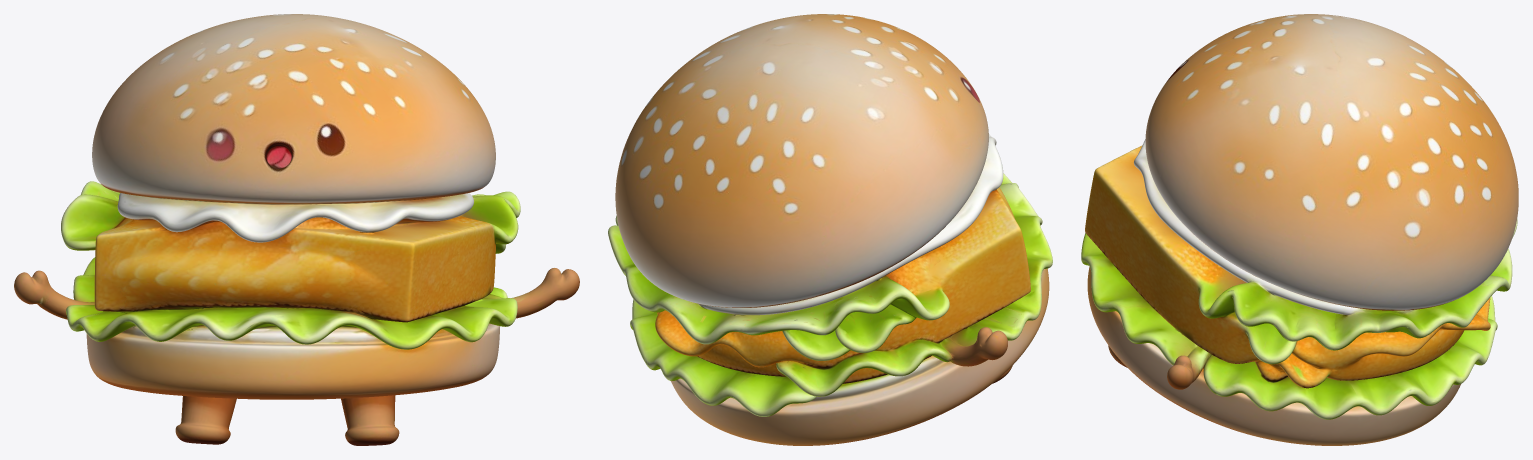
Rendered from fish_burger.glb.
3 views of the same model, side by side, from view 1: azimuth 30°, elevation 25°; view 2: azimuth 150°, elevation 25°; view 3: azimuth 270°, elevation 25° (orthographic). The views are drawn at different scales.
Visible parts, largest first — view 1: node_0; view 2: node_0; view 3: node_0.
Boxes of the visible parts, x1,y1,x2,y2 form: node_0: (14, 14, 579, 445); node_0: (608, 14, 1052, 445); node_0: (1081, 14, 1518, 445).
Bounding box in the file's own units: 1.04 × 0.8231 × 0.914.
Materials: 1 (1 with a texture image).
